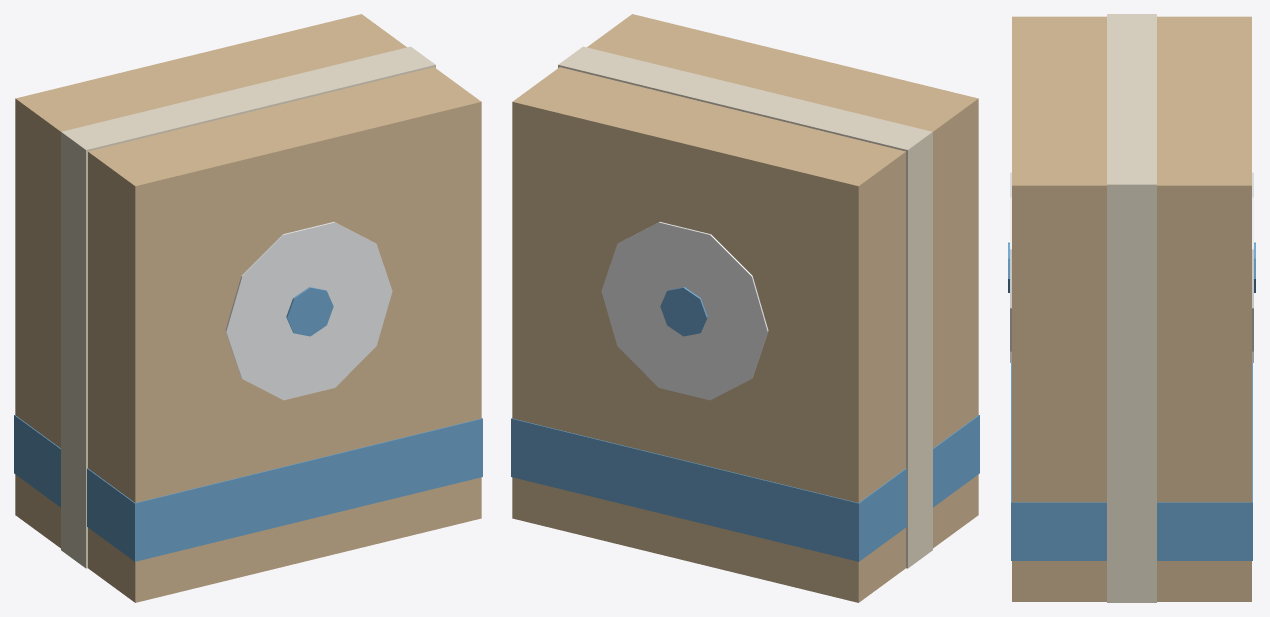
File: ventilador_mesa_caixa.glb
3 renders of one model, left to right at view 1: azimuth 30°, elevation 25°; view 2: azimuth 150°, elevation 25°; view 3: azimuth 270°, elevation 25°, orthographic.
Visible parts, largest first — view 1: corpo; view 2: corpo; view 3: corpo.
Part boxes in pixels (<box>): corpo: <box>14,14,482,602</box>; corpo: <box>511,14,979,602</box>; corpo: <box>1008,14,1255,602</box>.
Bounding box in the file's own units: 0.404 × 0.462 × 0.248.
